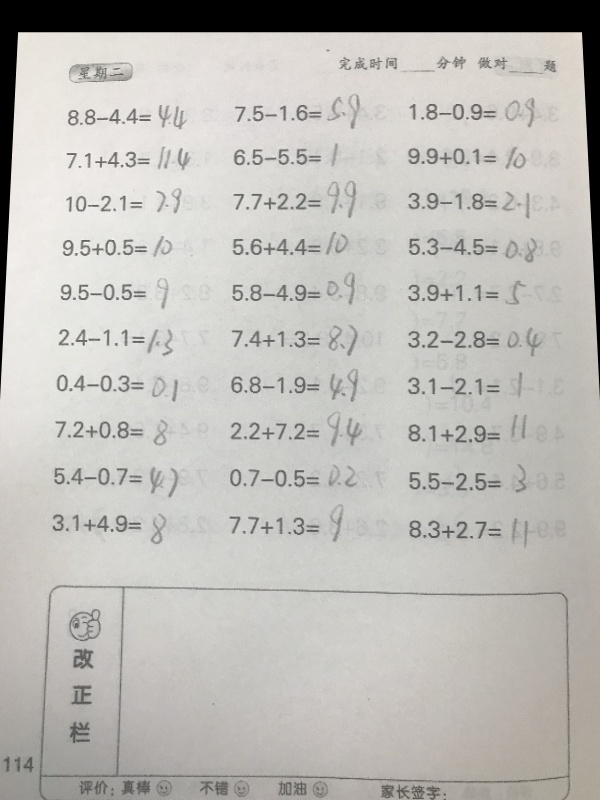equation: (395, 511, 560, 553), (399, 458, 562, 499), (399, 408, 561, 449), (220, 499, 362, 545), (228, 408, 368, 453), (224, 454, 364, 499), (226, 176, 364, 219), (228, 365, 366, 408), (392, 368, 553, 404), (396, 322, 555, 358), (232, 90, 364, 132), (394, 276, 552, 311), (231, 318, 363, 359), (400, 232, 557, 266), (229, 268, 359, 309), (404, 186, 560, 220), (406, 95, 546, 131), (48, 460, 181, 497), (48, 509, 170, 547), (57, 274, 172, 313), (51, 368, 182, 400), (228, 229, 362, 260), (63, 184, 197, 215), (54, 325, 176, 359), (51, 416, 175, 449), (62, 142, 194, 172), (63, 100, 190, 129), (403, 143, 529, 172), (59, 232, 177, 261), (229, 140, 342, 170)
